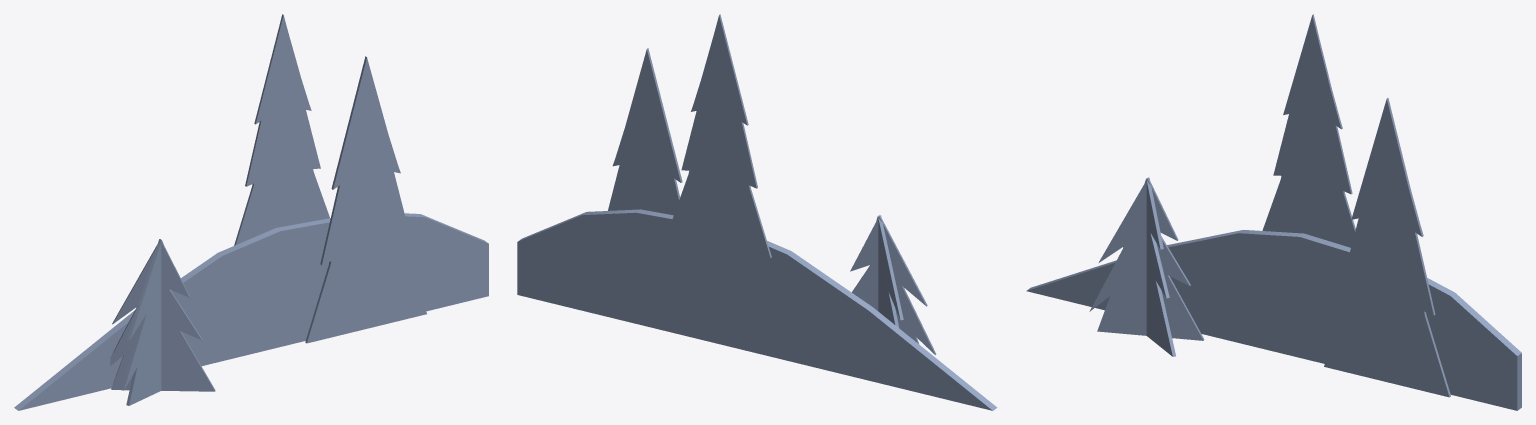
The model's file is frame_0042.glb.
The picture shows the model from 3 angles, left to right: view 1: azimuth 30°, elevation 25°; view 2: azimuth 150°, elevation 25°; view 3: azimuth 330°, elevation 25°; orthographic projection. The views are drawn at different scales.
Visible parts, largest first — view 1: export_trees_001.002; view 2: export_trees_001.002; view 3: export_trees_001.002.
Part boxes in pixels (<box>): export_trees_001.002: <box>14,14,488,410</box>; export_trees_001.002: <box>517,14,997,410</box>; export_trees_001.002: <box>1026,14,1521,410</box>.
Bounding box in the file's own units: 0.3977 × 0.2652 × 0.0496.
